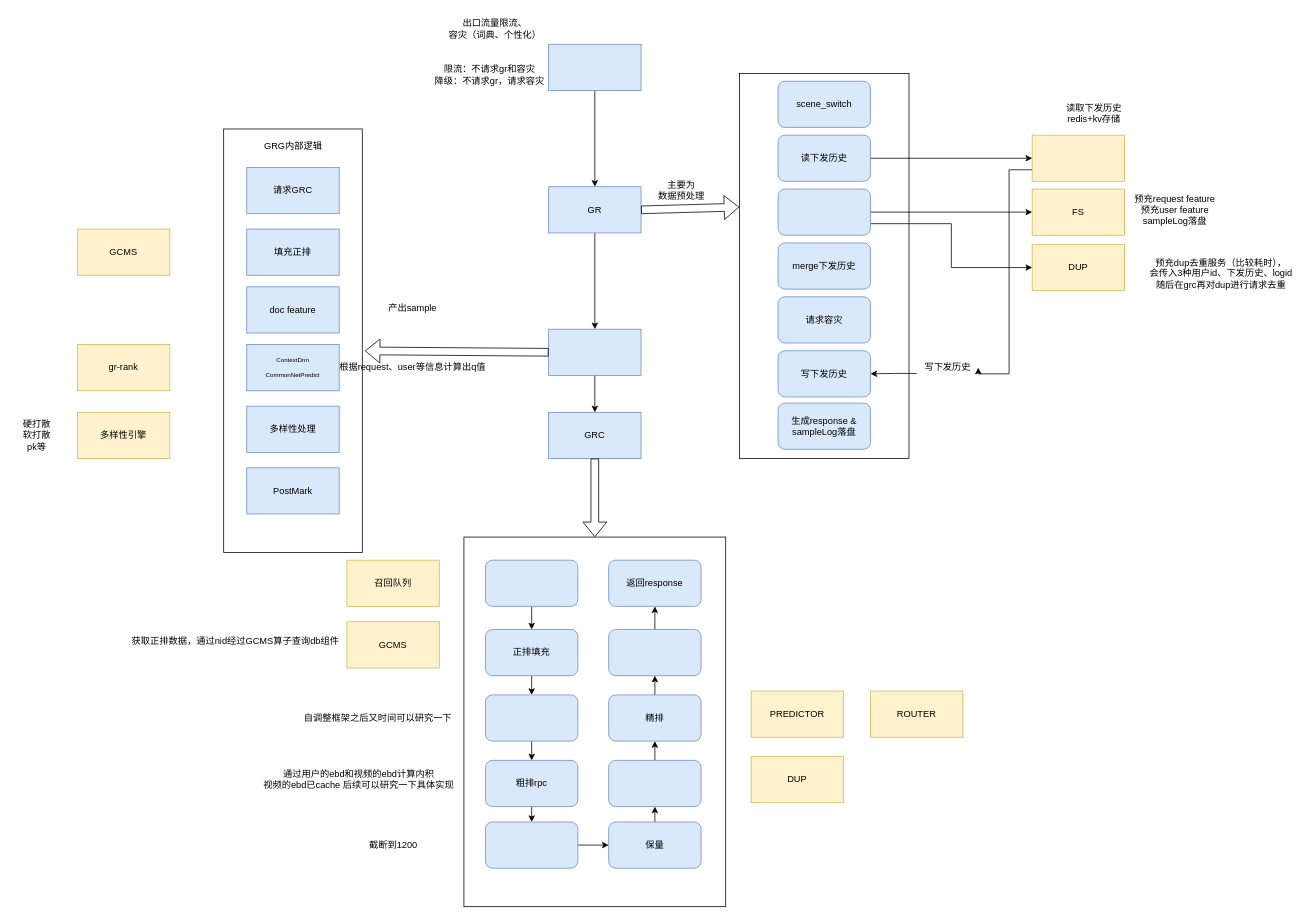
Image size: 1314x920. Some labels were removed from this diagram. Here are the shapes that lost their labels. From the top down, the centre of each, then its label:
At (x=594, y=67): "GRF".
At (x=1078, y=157): "HS".
At (x=823, y=211): "预充FS 预充DUP".
At (x=594, y=351): "GRG".
At (x=531, y=582): "召回".
At (x=654, y=652): "静排融合截断".
At (x=531, y=717): "filter".
At (x=654, y=783): "VFS去重".
At (x=531, y=844): "粗排融合调权截断".
